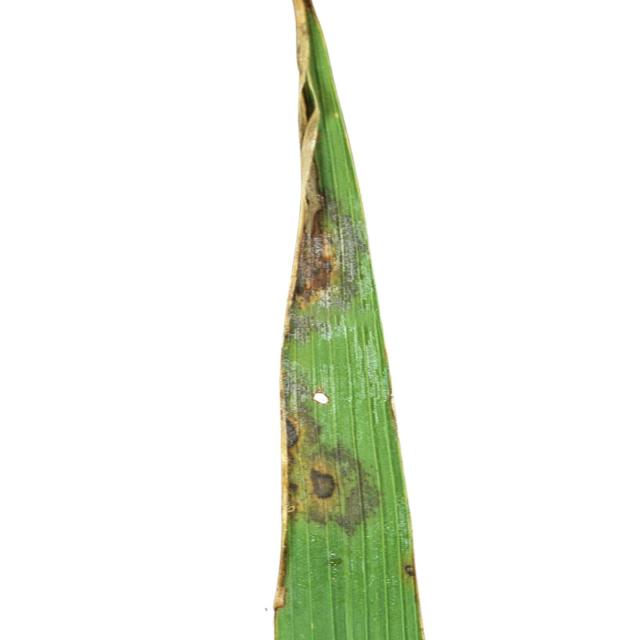Leaf scald: (202, 0, 440, 640)
